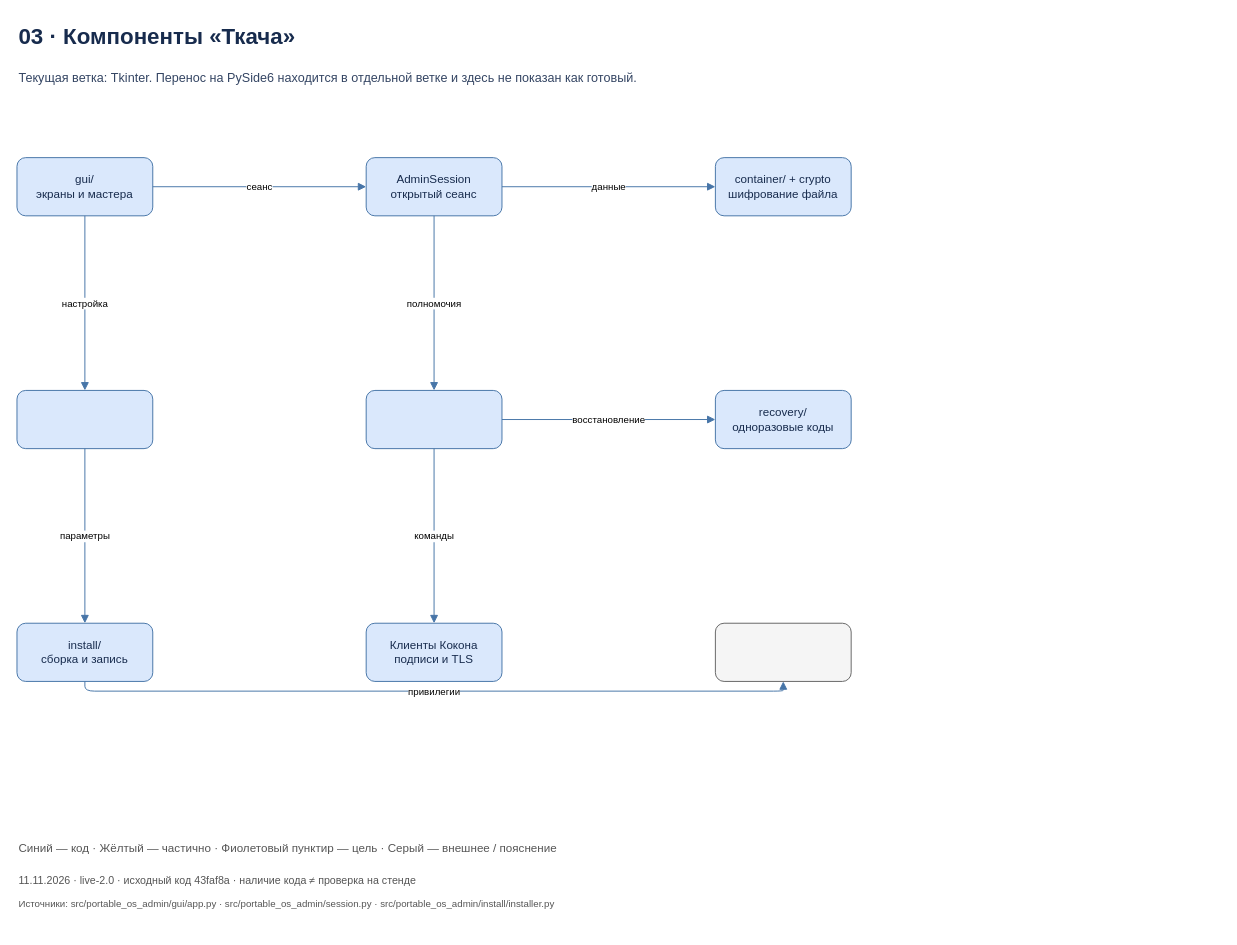
The diagram is 1237 pixels wide and 945 high, and some of its shapes have lost their labels. The box of each missing label's shape, as (x1, y1, x2, y2) in pixels:
admin/ операции устройств: (365, 389, 502, 449)
config/ конфигурации: (16, 389, 153, 449)
Linux-инструменты polkit / LUKS / GRUB: (714, 622, 851, 681)
